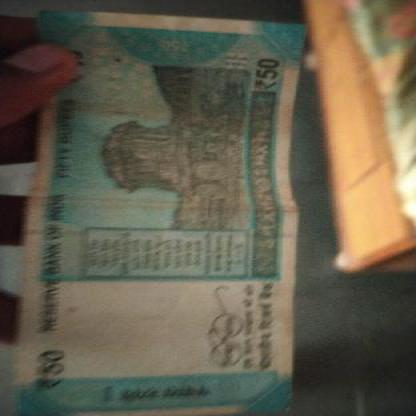New50Back: (27, 13, 285, 415)
